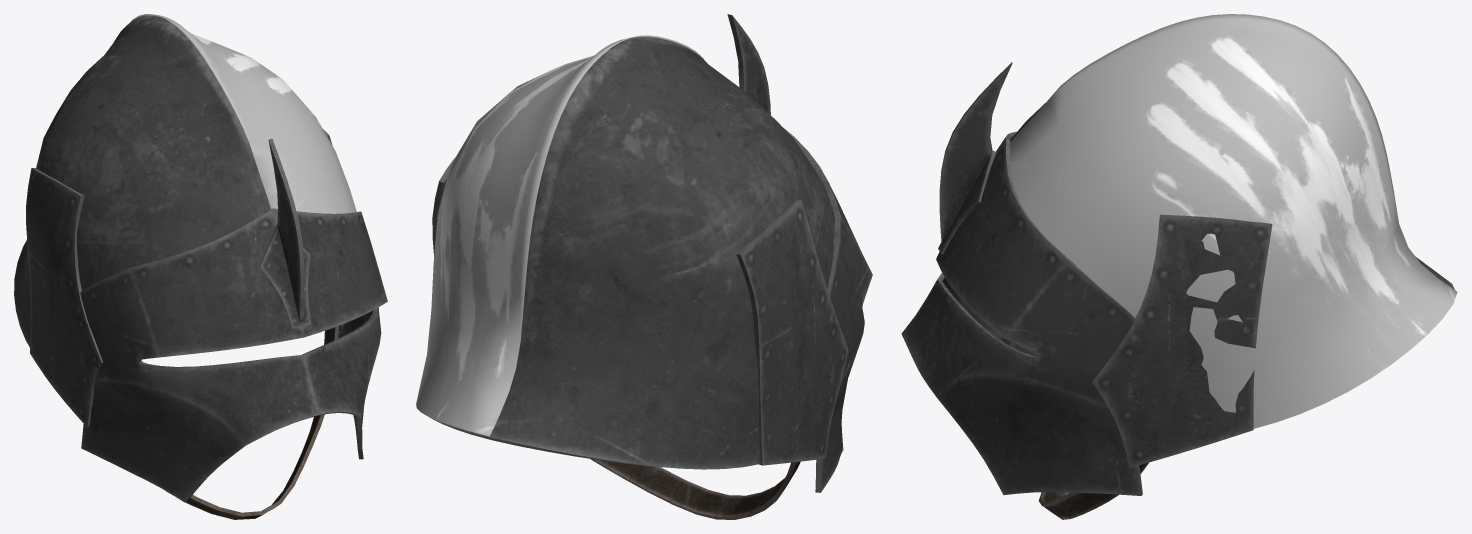
The model's file is sk_uruk_hai_helmet_spear_med_a3.fbx.
The picture shows the model from 3 angles, left to right: view 1: azimuth 30°, elevation 25°; view 2: azimuth 150°, elevation 25°; view 3: azimuth 270°, elevation 25°; orthographic projection. The views are drawn at different scales.
Visible parts, largest first — view 1: sk_uruk_hai_helmet_spear_med_a3.2, sk_uruk_hai_helmet_spear_med_a3.0, sk_uruk_hai_helmet_spear_med_a3.1; view 2: sk_uruk_hai_helmet_spear_med_a3.2, sk_uruk_hai_helmet_spear_med_a3.0, sk_uruk_hai_helmet_spear_med_a3.1; view 3: sk_uruk_hai_helmet_spear_med_a3.0, sk_uruk_hai_helmet_spear_med_a3.2, sk_uruk_hai_helmet_spear_med_a3.1.
Boxes of the visible parts, box(x1,y1,x2,y2) form: sk_uruk_hai_helmet_spear_med_a3.2: box(14, 15, 387, 502); sk_uruk_hai_helmet_spear_med_a3.0: box(129, 14, 356, 213); sk_uruk_hai_helmet_spear_med_a3.1: box(166, 326, 338, 519); sk_uruk_hai_helmet_spear_med_a3.2: box(429, 14, 872, 492); sk_uruk_hai_helmet_spear_med_a3.0: box(416, 35, 704, 436); sk_uruk_hai_helmet_spear_med_a3.1: box(590, 459, 800, 519); sk_uruk_hai_helmet_spear_med_a3.0: box(1010, 14, 1457, 428); sk_uruk_hai_helmet_spear_med_a3.2: box(901, 62, 1454, 495); sk_uruk_hai_helmet_spear_med_a3.1: box(1038, 462, 1148, 519).
Size of the model in its own units: 0.2102 by 0.3202 by 0.3161.
3 materials, 3 textured.
